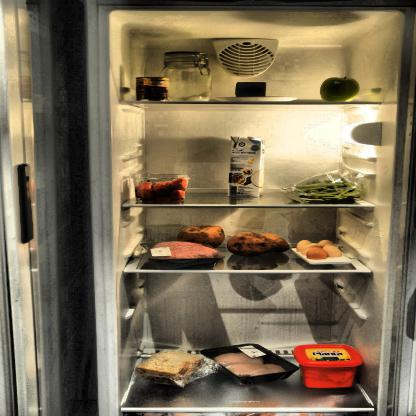apple: (320, 74, 360, 103)
butter: (294, 344, 362, 390)
cheese: (233, 79, 269, 100)
chicken: (212, 346, 288, 382)
corn: (137, 78, 171, 102)
eggs: (296, 238, 344, 262)
green_beans: (286, 173, 367, 204)
ground_beef: (146, 240, 219, 271)
milk: (229, 135, 264, 201)
strawberries: (134, 177, 188, 204)
sweet_potato: (226, 231, 292, 258), (178, 225, 226, 246)
